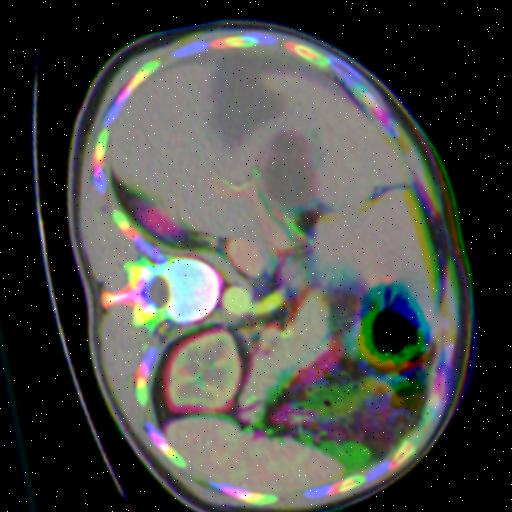Cyst: (211, 49, 286, 144), (258, 126, 318, 201)
